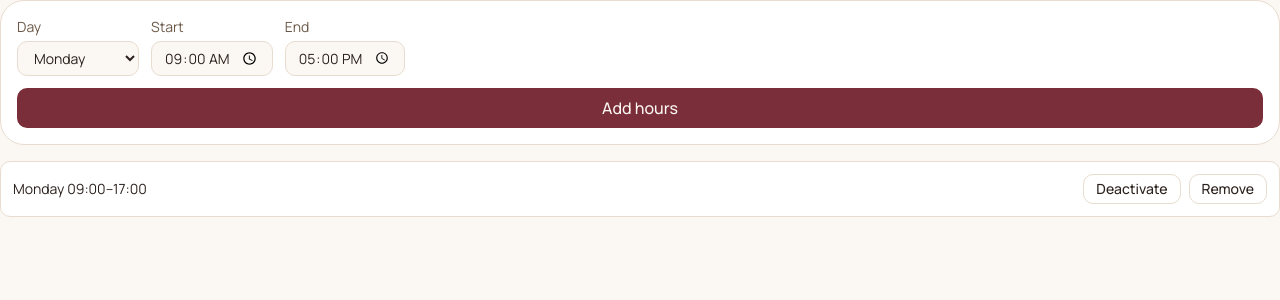
Test: RulesSection › removes a rule
The width and height of the screenshot is (1280, 300).
Expected: the text "Monday 09:00–17:00" is shown, x1=13 y1=179 x2=147 y2=199
Click the button "Remove": (1228, 189) x1=1188 y1=174 x2=1267 y2=204
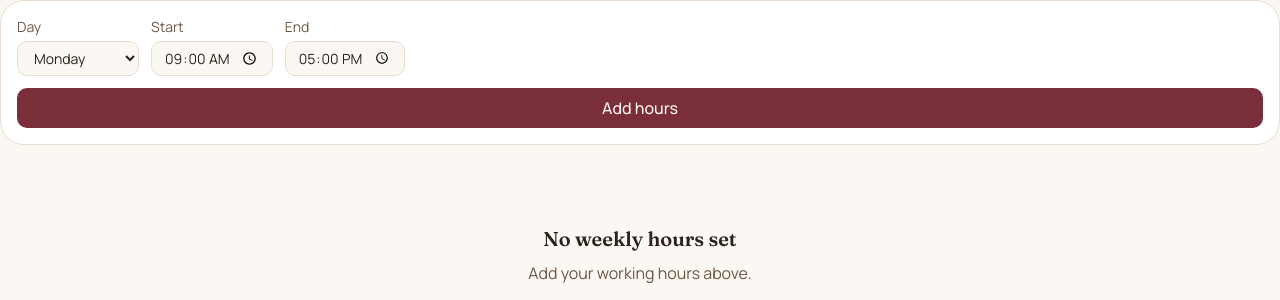
Expected: the heading "No weekly hours set" is shown, x1=543 y1=225 x2=737 y2=253
